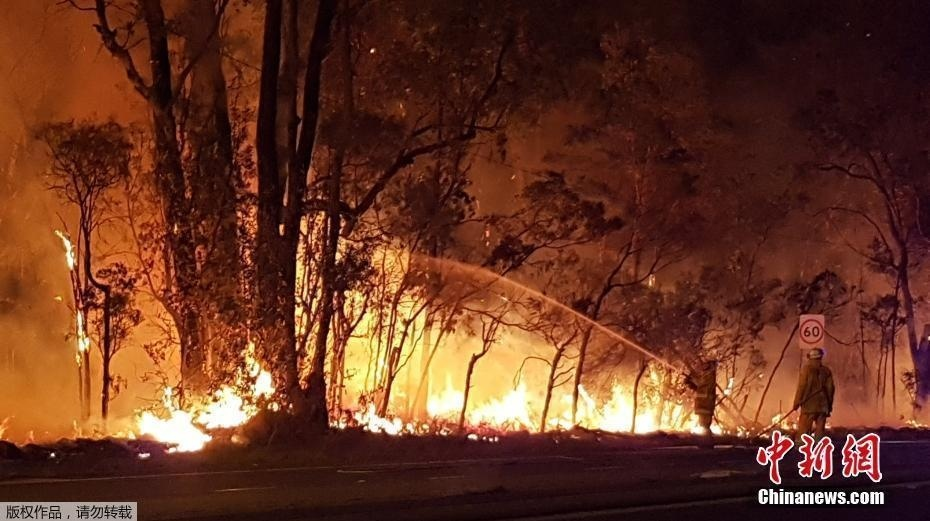fire: (132, 341, 280, 450), (66, 302, 99, 367), (53, 224, 83, 274)
